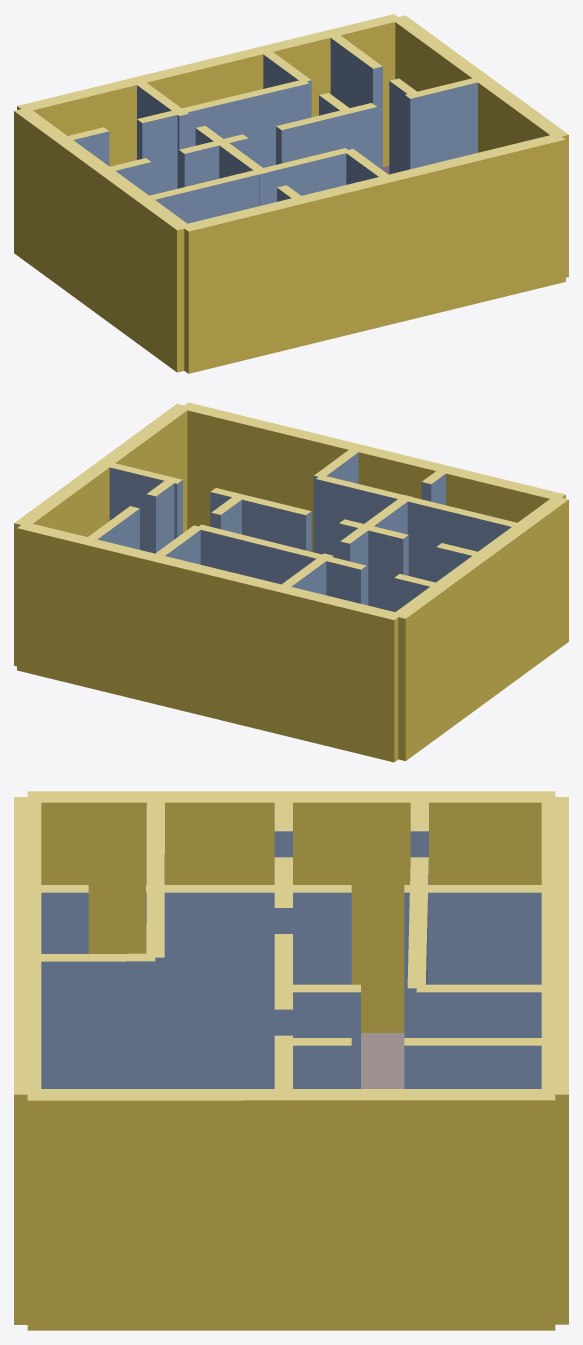
The model's file is building_thick_walls.obj.
3 views of the same model, one above another, from view 1: azimuth 30°, elevation 25°; view 2: azimuth 150°, elevation 25°; view 3: azimuth 270°, elevation 25° (orthographic). The views are drawn at different scales.
Parts seen in each view (by area): view 1: Building; view 2: Building; view 3: Building.
Boxes of the visible parts, x1,y1,x2,y2 form: Building: (14, 14, 568, 373); Building: (14, 402, 568, 762); Building: (14, 791, 568, 1330).
Bounding box in the file's own units: 8.07 × 2.8 × 6.12.
